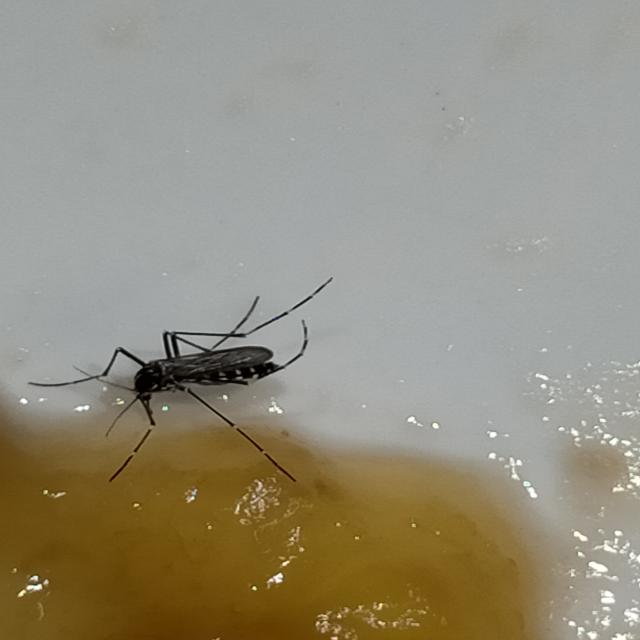albopictus: (37, 265, 333, 494)
